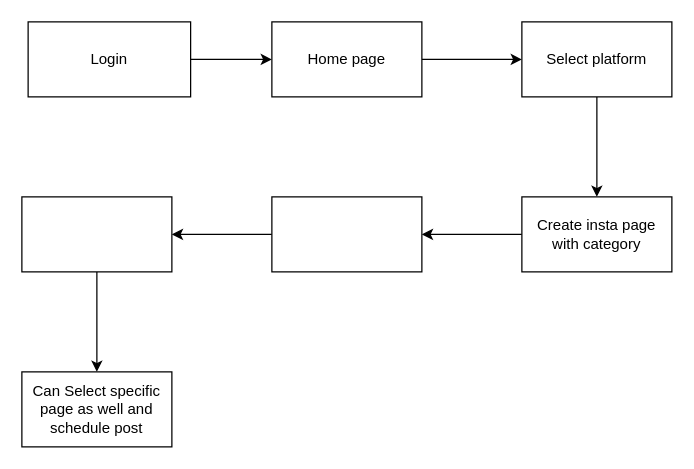
This 694x469 diagram has some shape labels left out. Here are the shapes that lost their labels. From the top down, the centre of each, then its label:
At [96,234]: "Can Select specific page as well".
At [346,234]: "Select category schedule post there".
